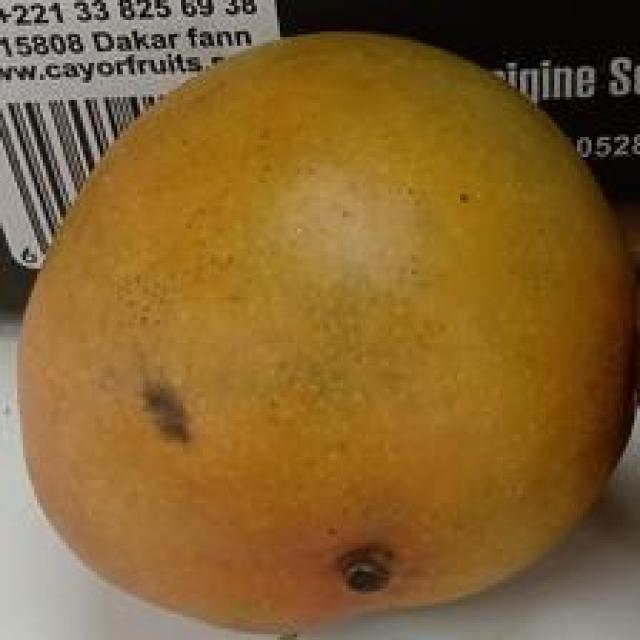Mango: (0, 39, 640, 637)
